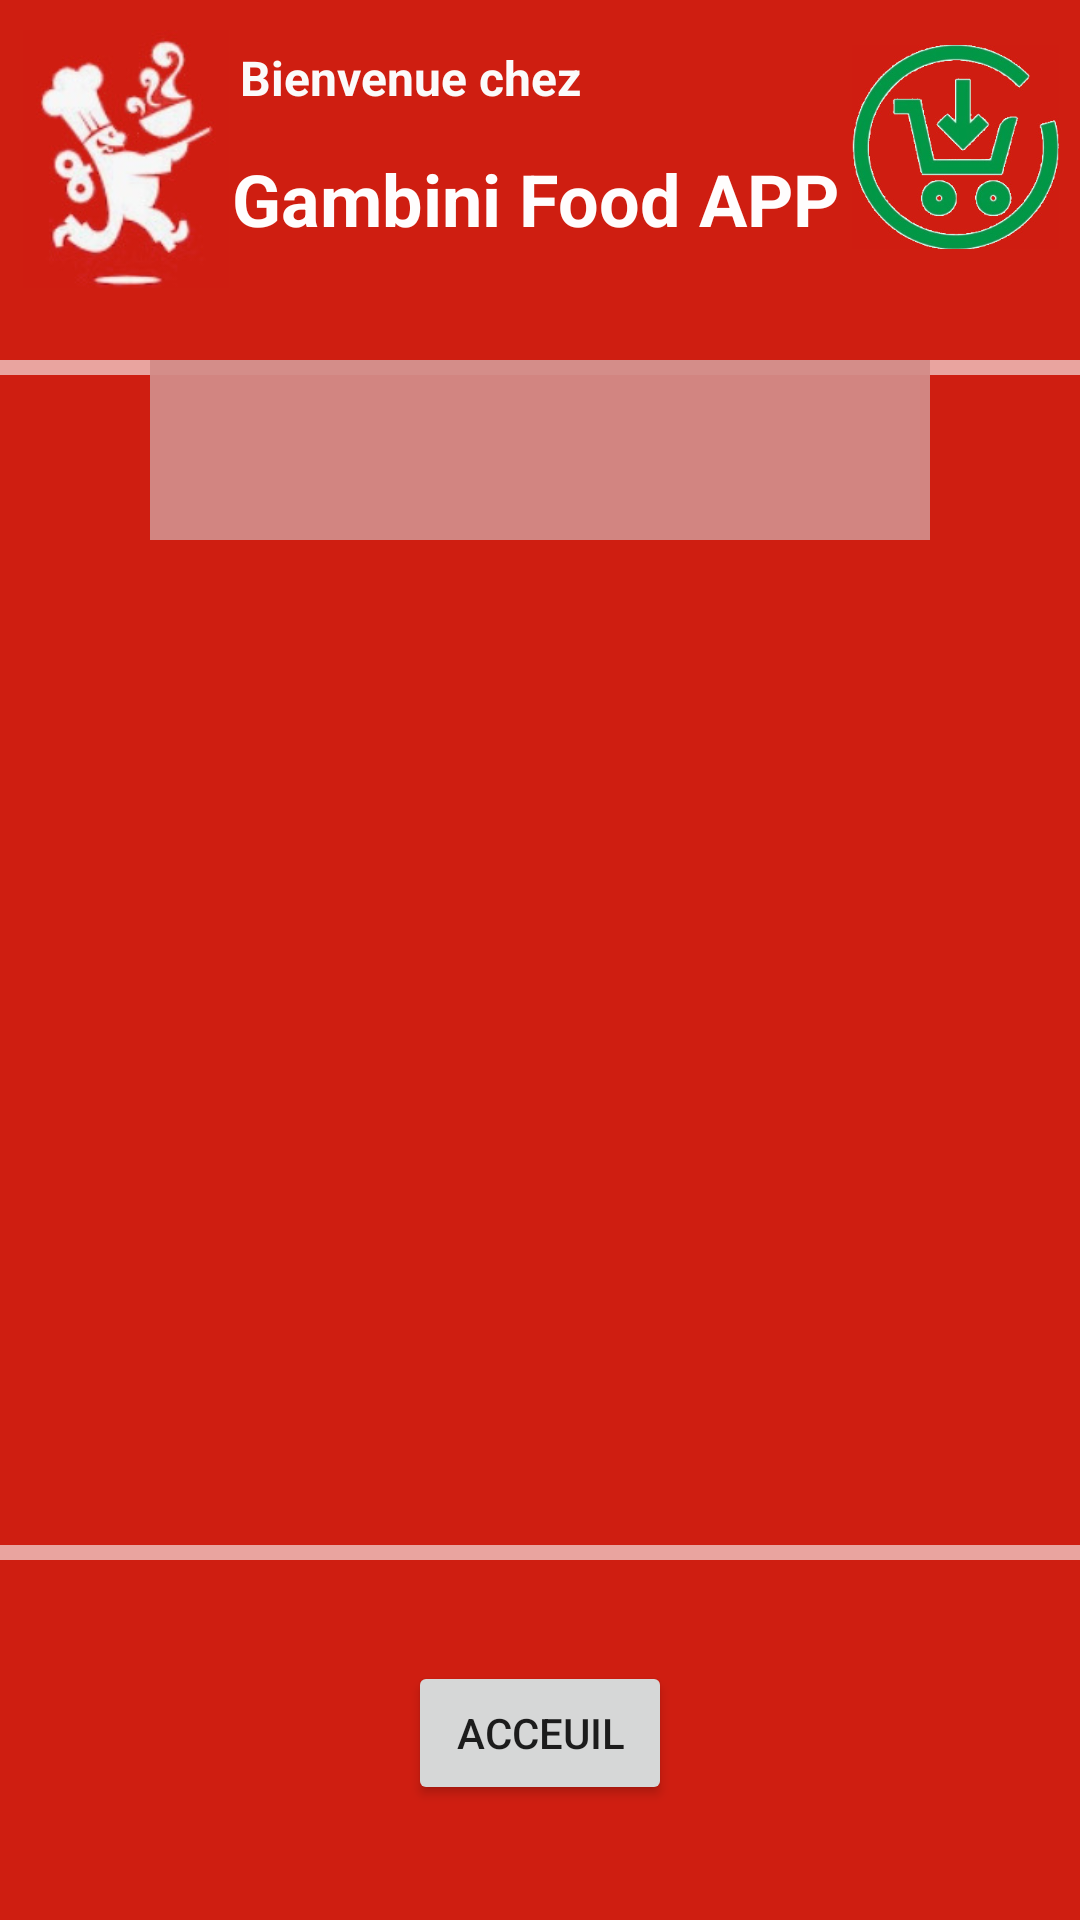

Screen size 1080*1920. Icon name, then its center in pixels as (x=x, y=y):
panier: (x=955, y=147)
